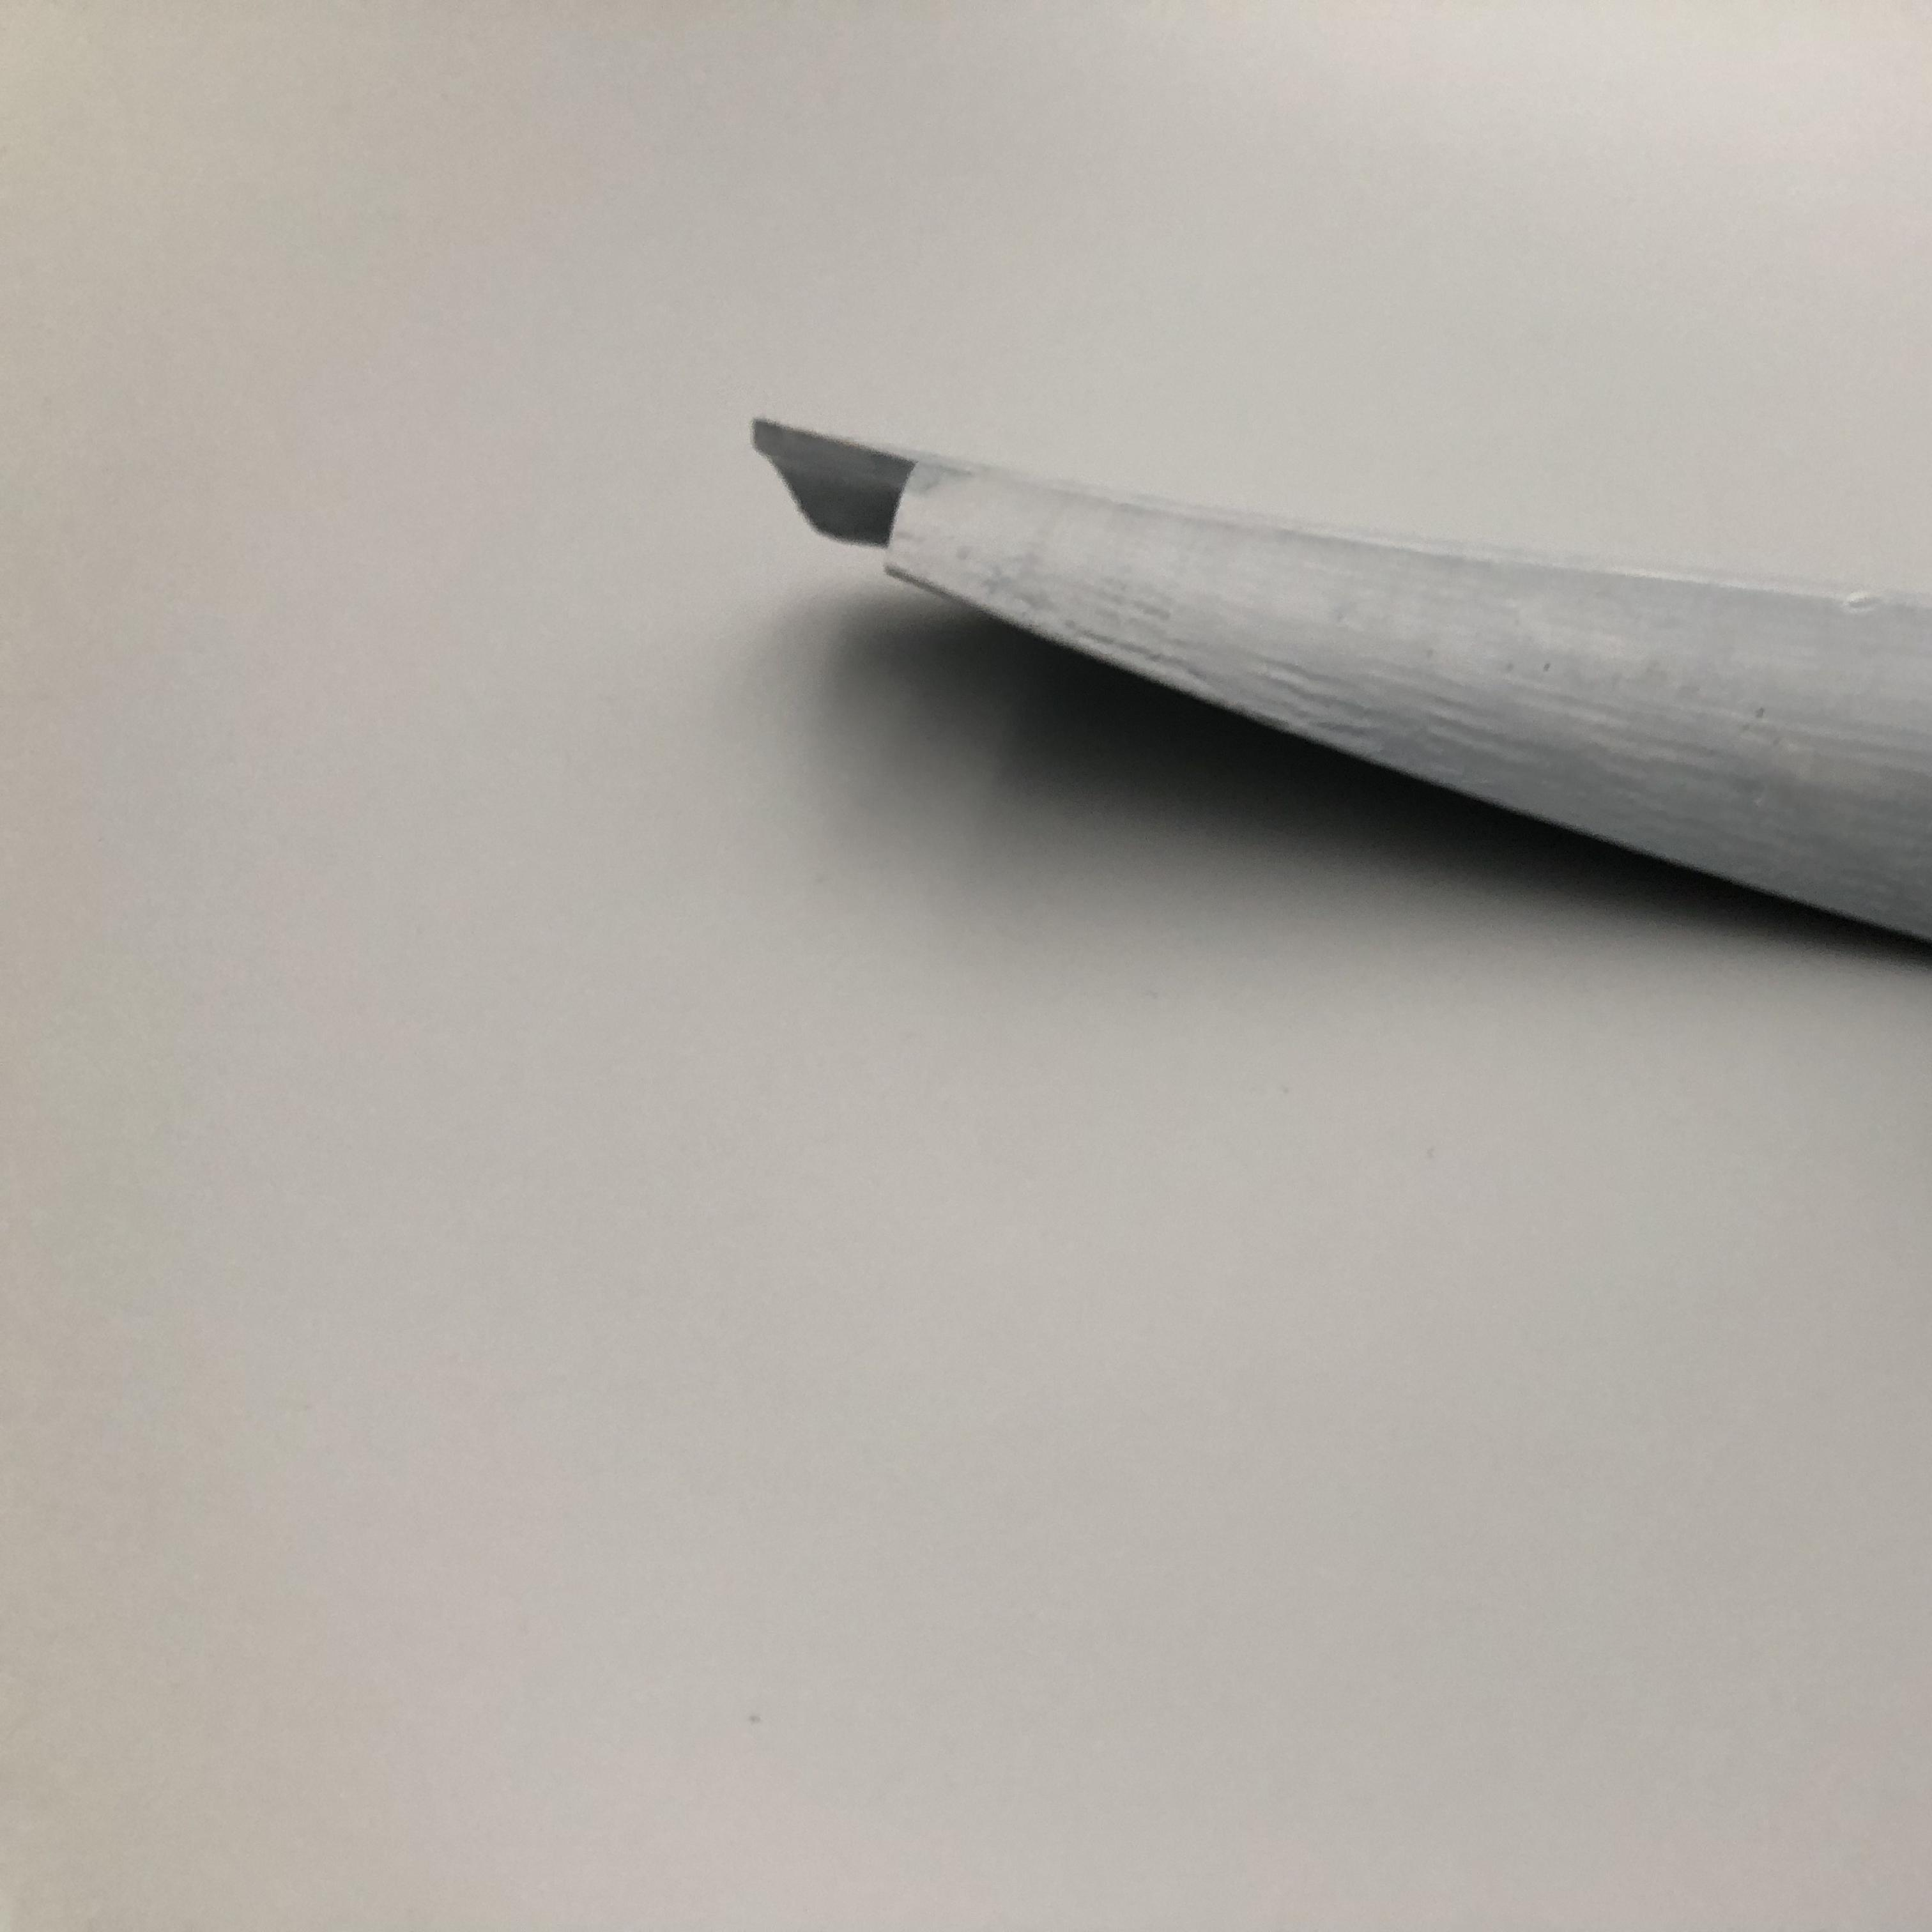fracture: (745, 423, 957, 573)
